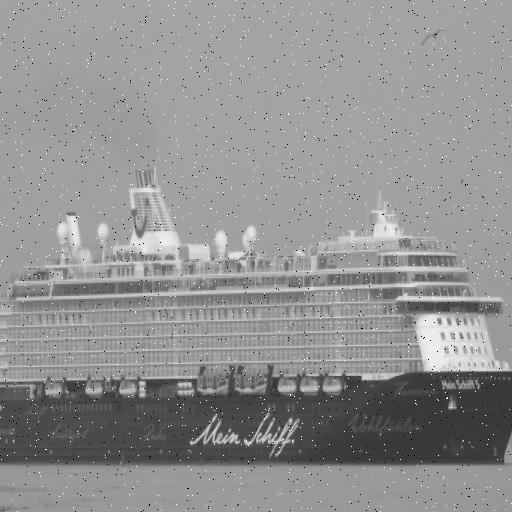cruises: (1, 180, 512, 469)
